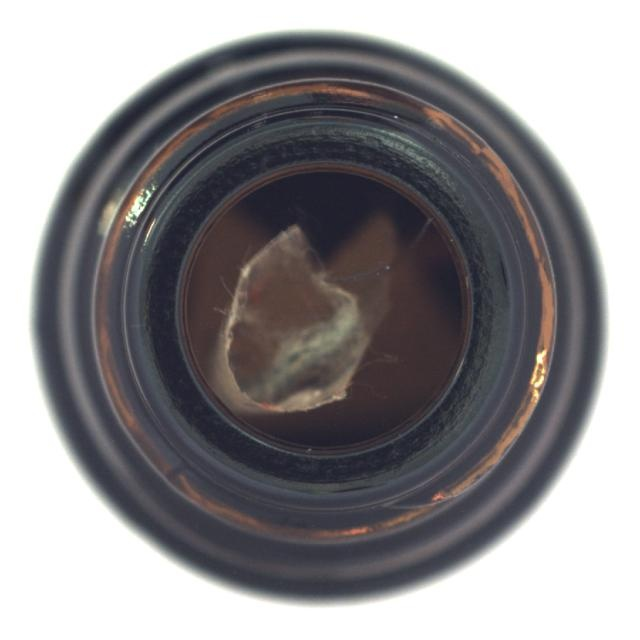bad-contamination: (29, 30, 607, 609)
